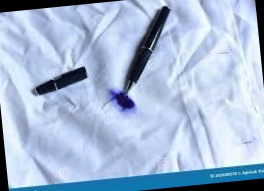ink: (110, 91, 135, 114)
